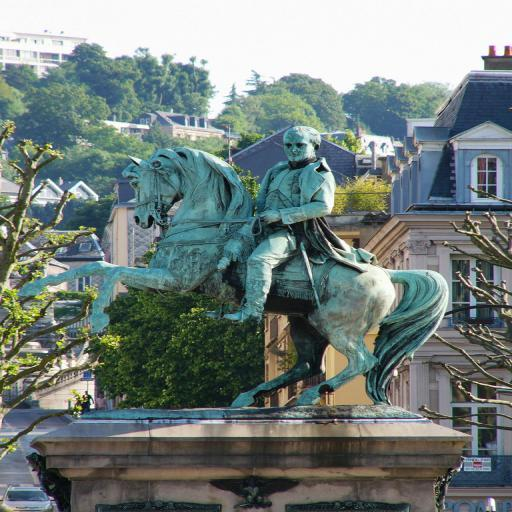Horse: (20, 146, 449, 409)
